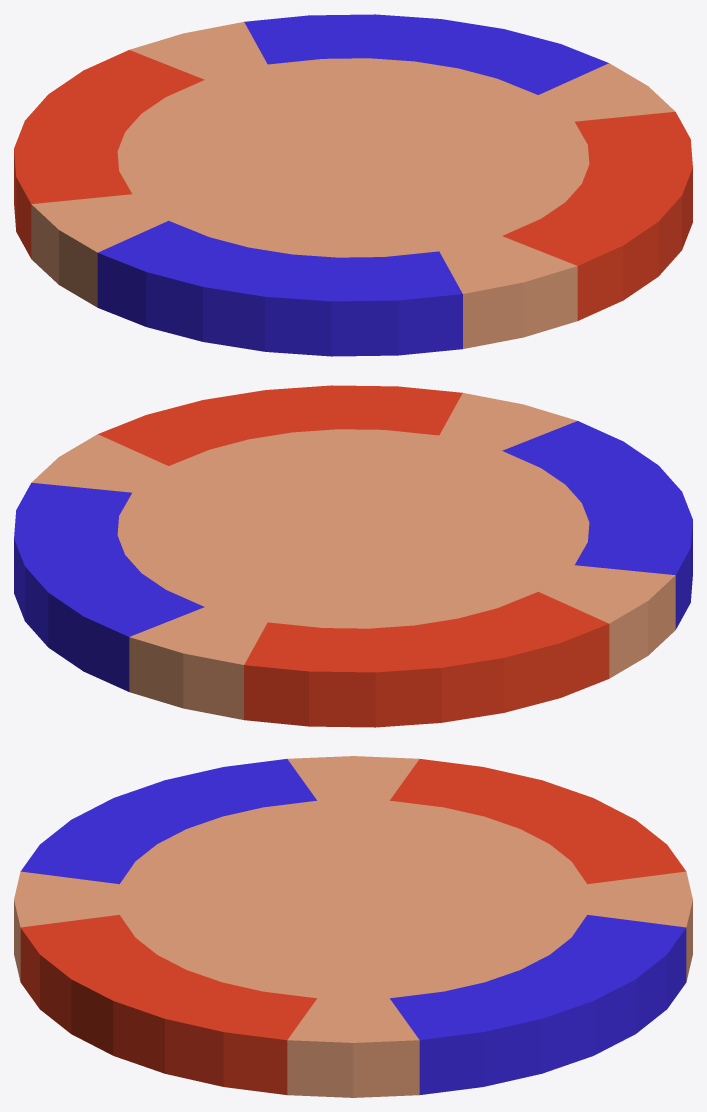
Rendered from MagnetV1.fbx.
3 views of the same model, one above another, from view 1: azimuth 30°, elevation 25°; view 2: azimuth 150°, elevation 25°; view 3: azimuth 270°, elevation 25° (orthographic).
Parts seen in each view (by area): view 1: Cylinder; view 2: Cylinder; view 3: Cylinder.
Boxes of the visible parts, x1=… form: Cylinder: x1=14, y1=14, x2=692, y2=356; Cylinder: x1=14, y1=385, x2=692, y2=727; Cylinder: x1=14, y1=756, x2=692, y2=1097.
Size of the model in its own units: 200 by 17.86 by 200.
